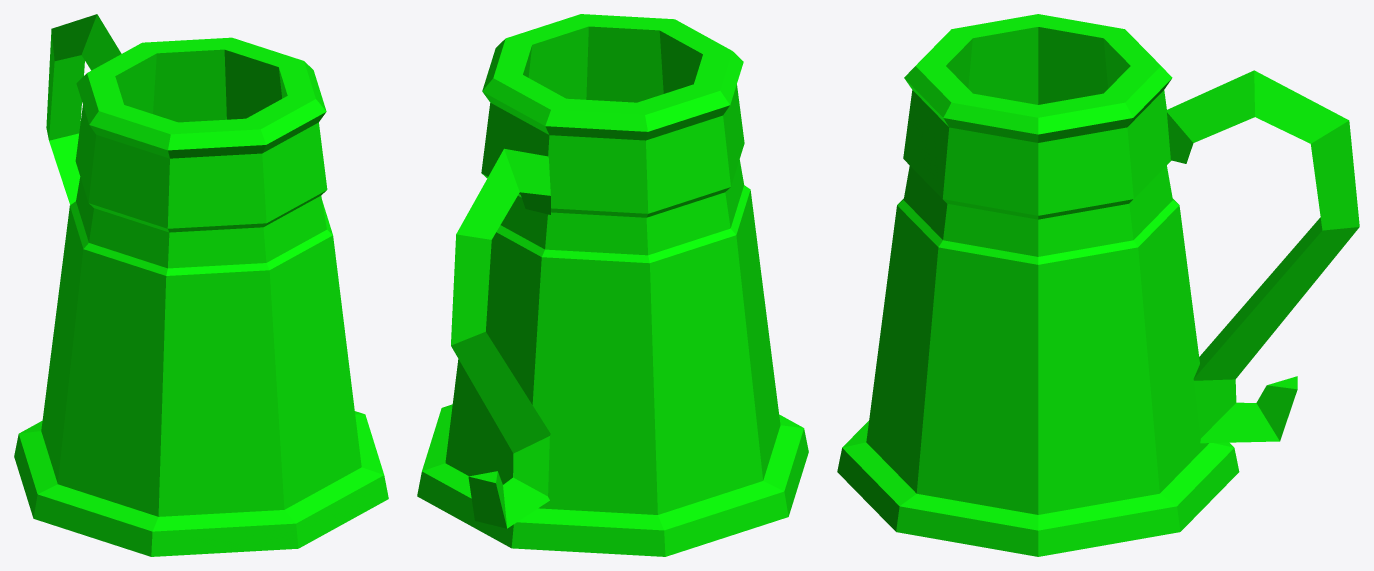
The model's file is SM_Beer_Glass_Metal_A_Fantasy.fbx.
The picture shows the model from 3 angles, left to right: view 1: azimuth 30°, elevation 25°; view 2: azimuth 150°, elevation 25°; view 3: azimuth 270°, elevation 25°; orthographic projection. The views are drawn at different scales.
Visible parts, largest first — view 1: beer-glass-metal-a-fantasy; view 2: beer-glass-metal-a-fantasy; view 3: beer-glass-metal-a-fantasy.
Part boxes in pixels (x1,y1,x2,y2): beer-glass-metal-a-fantasy: [14, 14, 388, 556]; beer-glass-metal-a-fantasy: [417, 14, 808, 556]; beer-glass-metal-a-fantasy: [837, 14, 1359, 556].
Size of the model in its own units: 0.1525 by 0.1699 by 0.1982.
